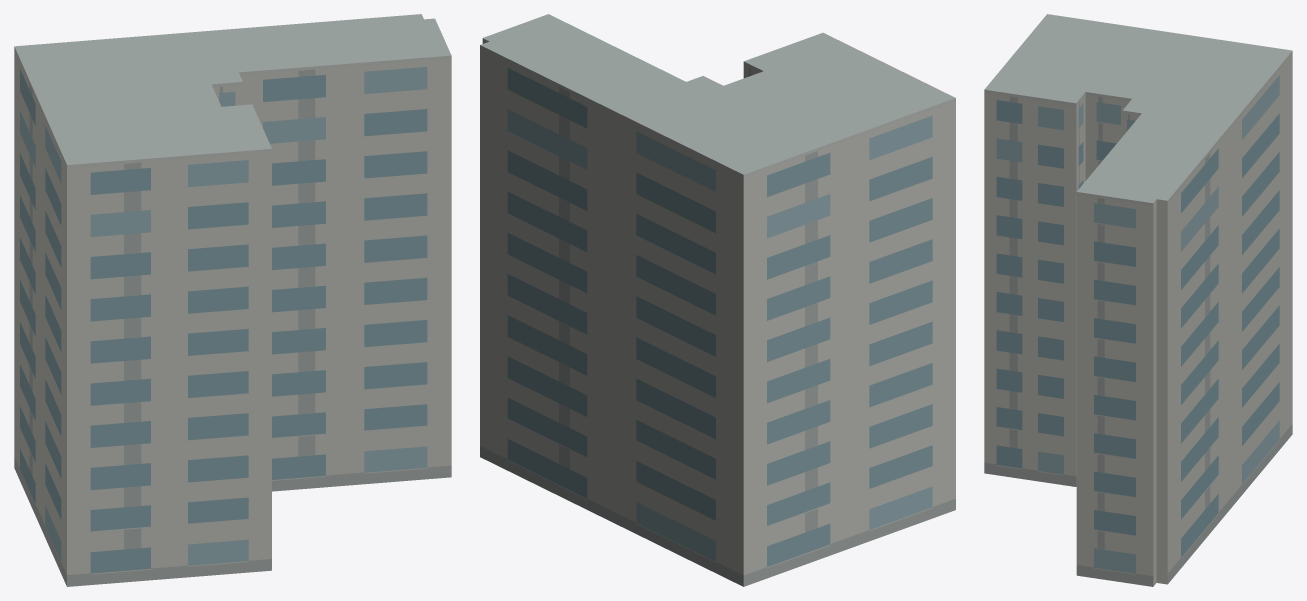
The model's file is residential-fe3eae62-c177-4ca6-8172-62c6a4893553.glb.
3 views of the same model, side by side, from view 1: azimuth 30°, elevation 25°; view 2: azimuth 150°, elevation 25°; view 3: azimuth 270°, elevation 25° (orthographic). The views are drawn at different scales.
Parts seen in each view (by area): view 1: residential-fe3eae62-c177-4ca6-8172-62c6a4893553.tmp; view 2: residential-fe3eae62-c177-4ca6-8172-62c6a4893553.tmp; view 3: residential-fe3eae62-c177-4ca6-8172-62c6a4893553.tmp.
Boxes of the visible parts, x1,y1,x2,y2 form: residential-fe3eae62-c177-4ca6-8172-62c6a4893553.tmp: [14, 14, 451, 586]; residential-fe3eae62-c177-4ca6-8172-62c6a4893553.tmp: [480, 14, 955, 586]; residential-fe3eae62-c177-4ca6-8172-62c6a4893553.tmp: [984, 14, 1292, 586].
Size of the model in its own units: 33.85 by 32 by 23.32.
